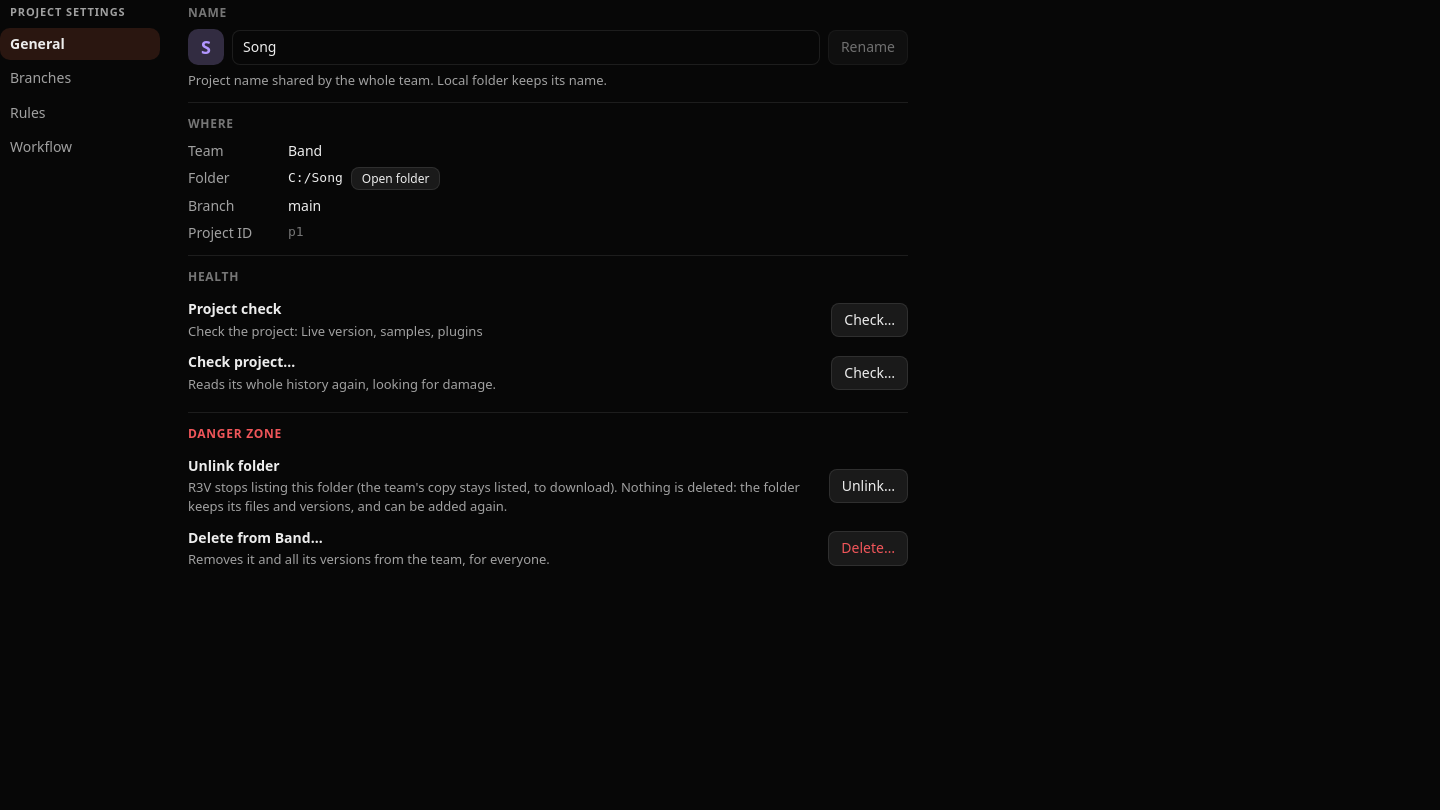
Scenario: ProjectSettings: AI agents › offers a Live project the guide for AI agents in Workflow
Click the button "Workflow" at (80, 147), box [0,131,160,163]
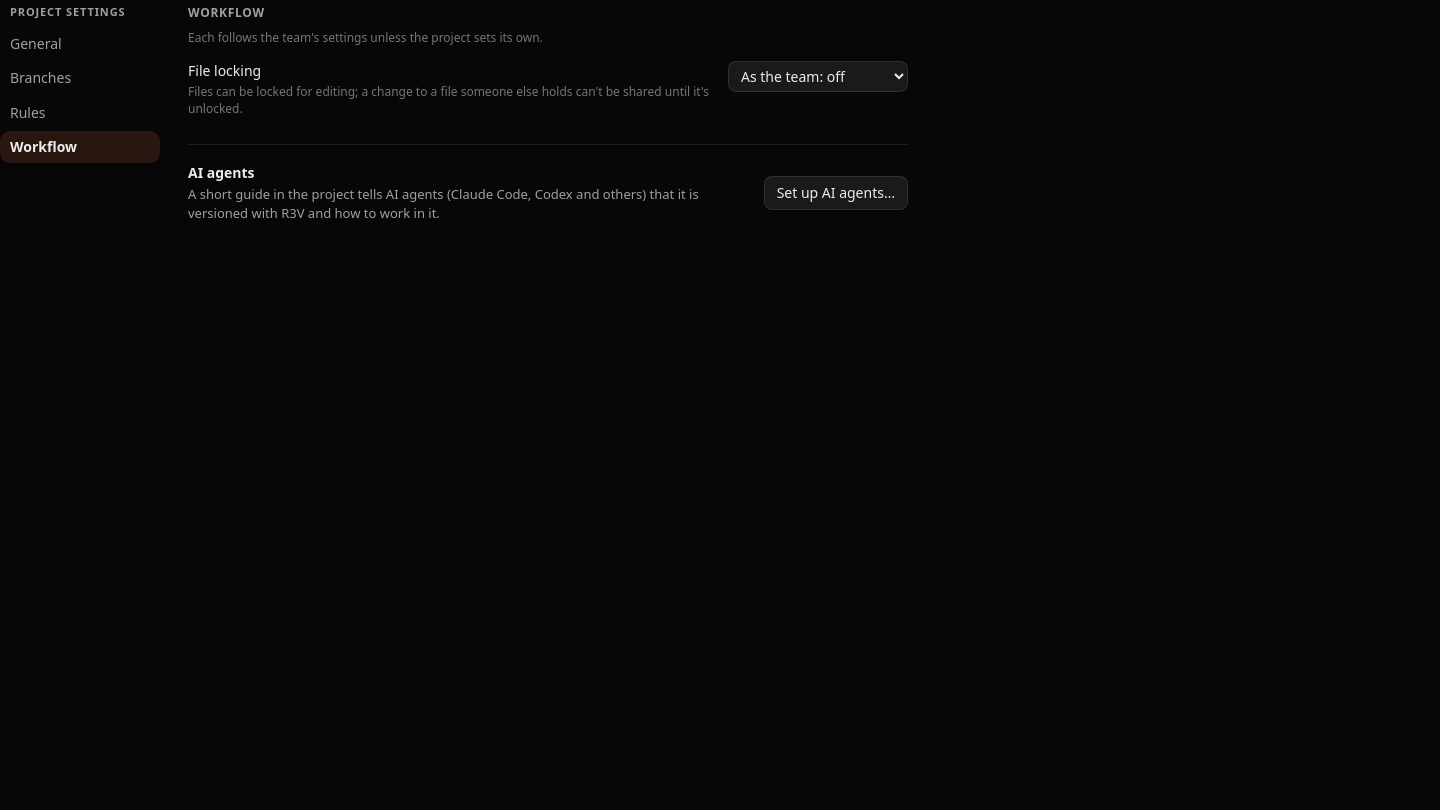
Click the button "Set up AI agents…" at (836, 193), box [764,176,908,210]
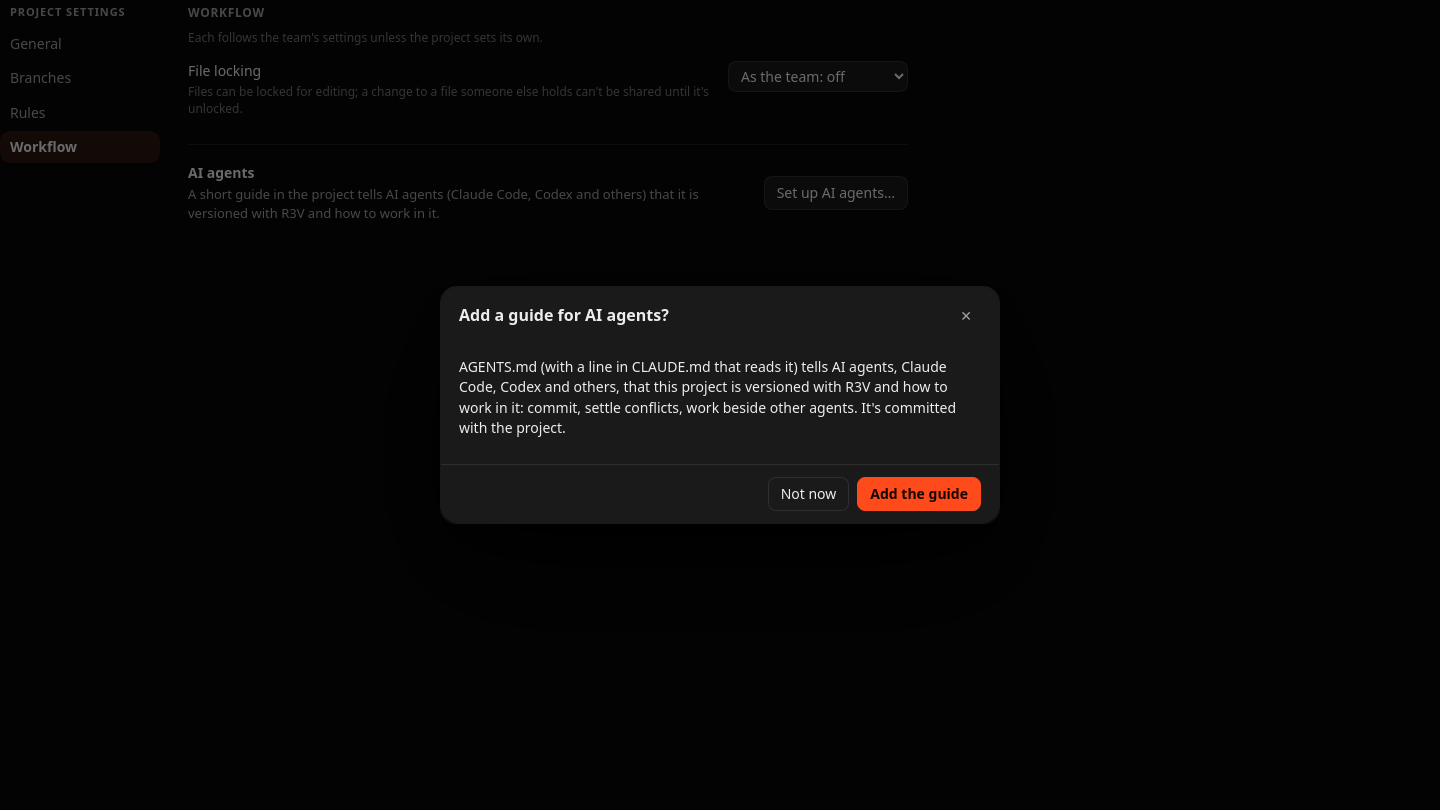
Click the button "Add the guide" at (919, 494), box [857,477,981,511]
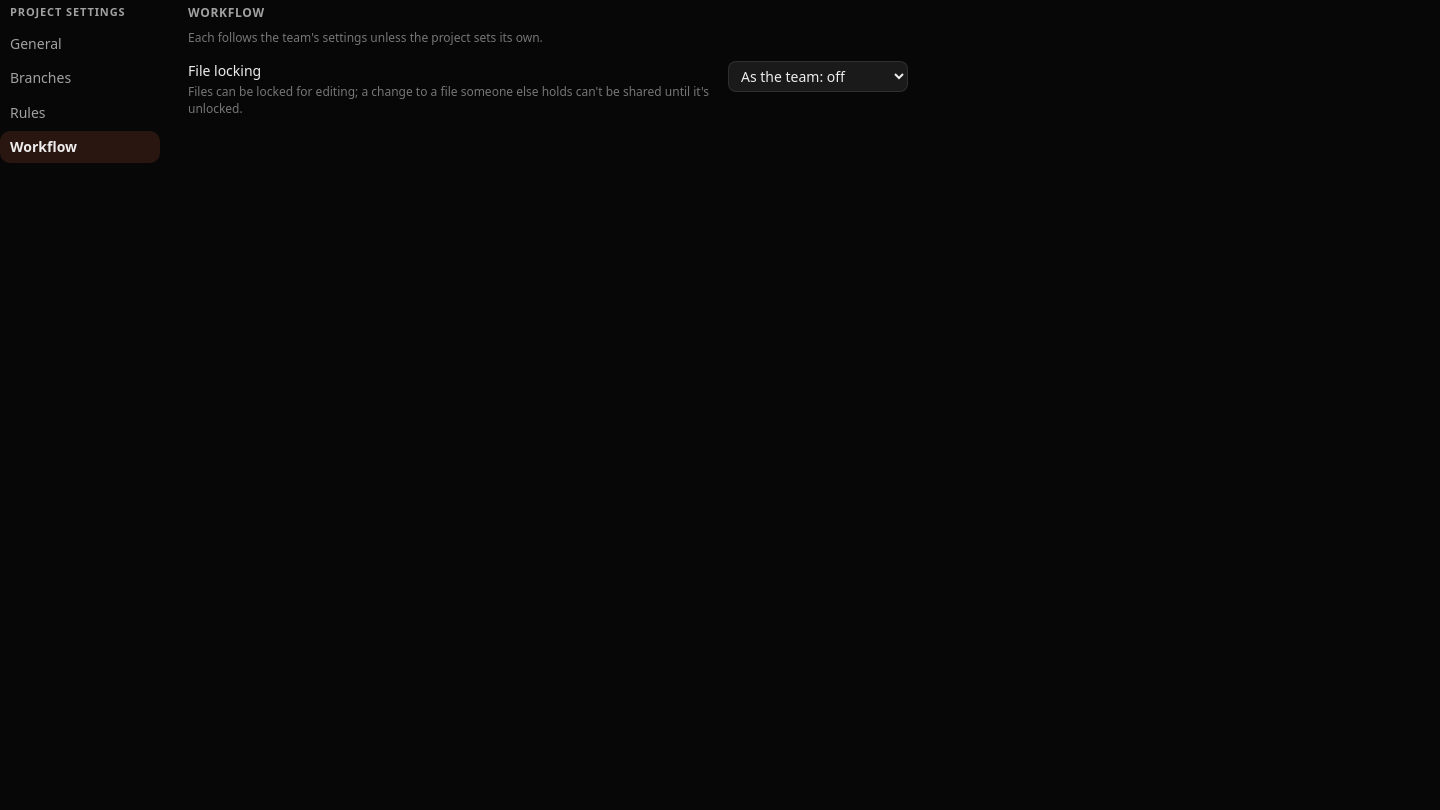
expect the button "Set up AI agents…" is gone: met
